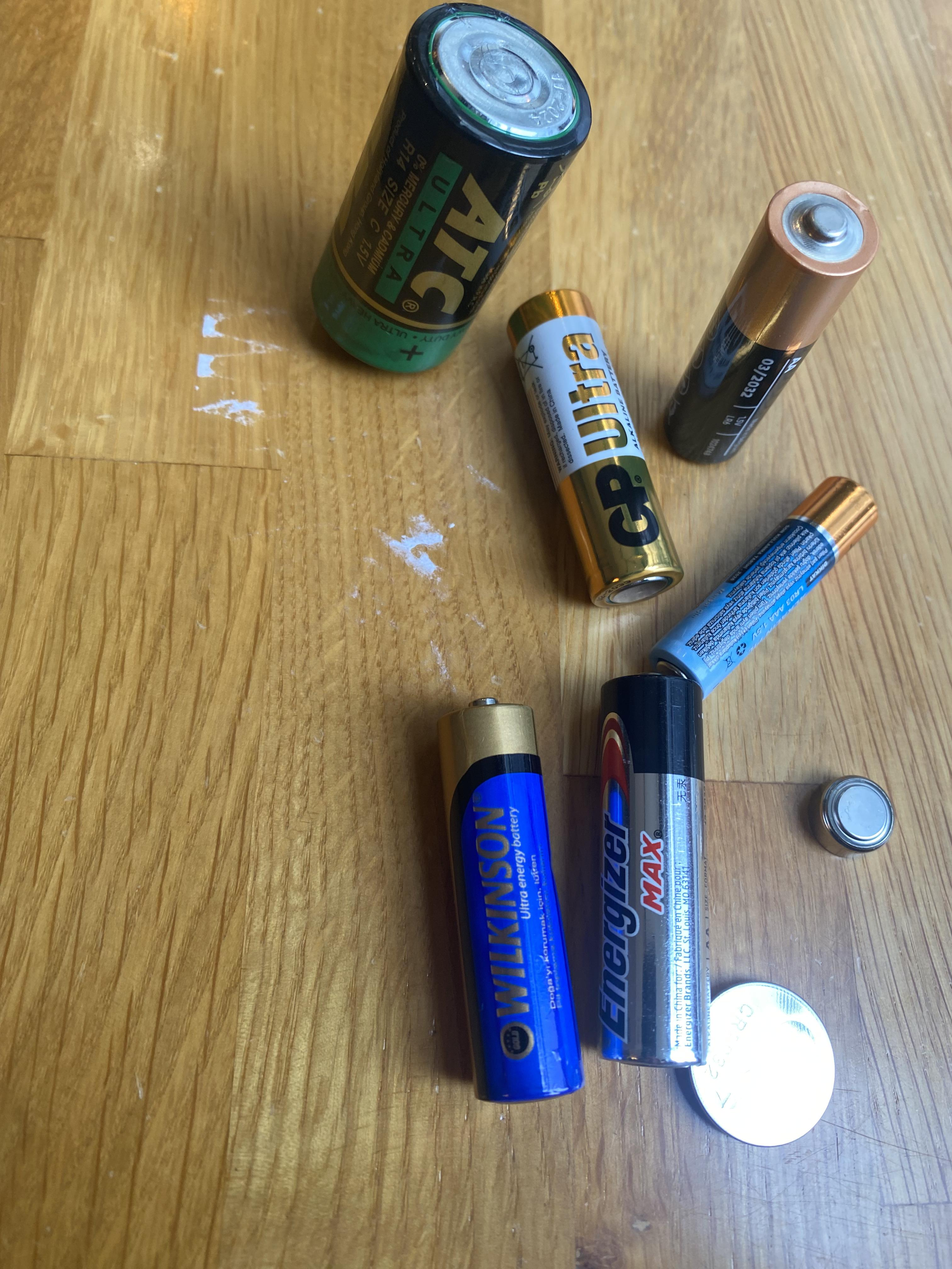AA: (663, 178, 880, 464), (436, 695, 585, 1103)
COIN: (790, 733, 910, 878)
